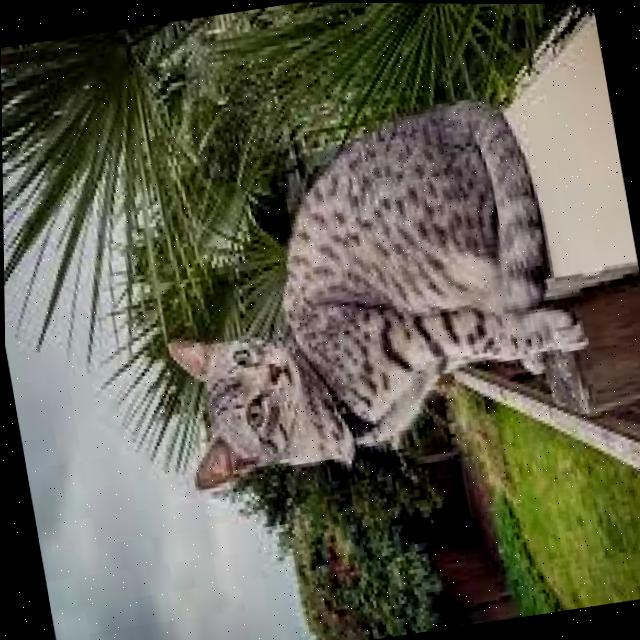Egyptian Mau: (125, 75, 608, 503)
